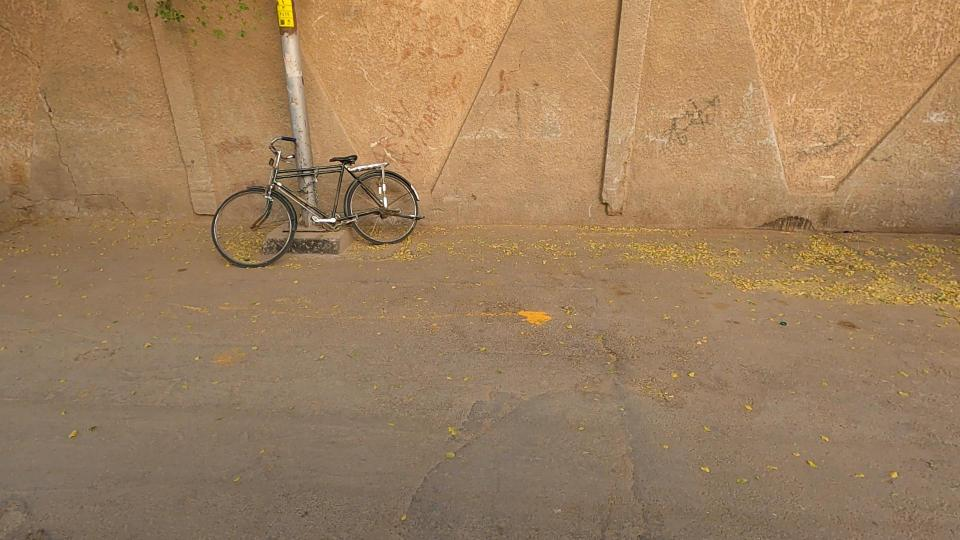GRAFFITI: (315, 0, 502, 247), (590, 38, 784, 210)
